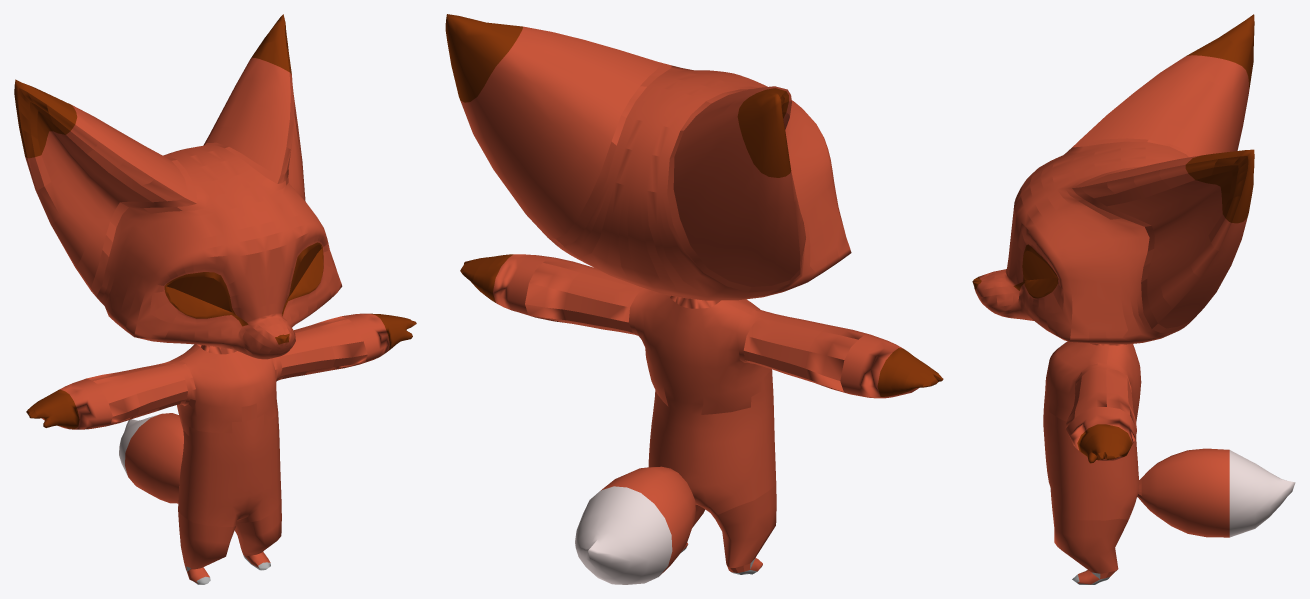
The model's file is fox_rig_v0.fbx.
The picture shows the model from 3 angles, left to right: view 1: azimuth 30°, elevation 25°; view 2: azimuth 150°, elevation 25°; view 3: azimuth 270°, elevation 25°; orthographic projection. The views are drawn at different scales.
Parts seen in each view (by area): view 1: TETE; view 2: TETE; view 3: TETE.
Part boxes in pixels (x1,y1,x2,y2): TETE: (14,14,416,584); TETE: (445,14,943,584); TETE: (972,14,1295,584).
Size of the model in its own units: 125 by 145 by 87.19.
